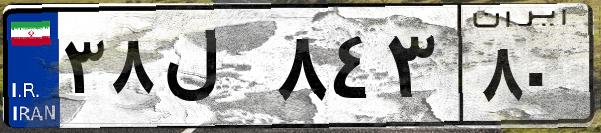0: (525, 38, 570, 115)
3: (385, 28, 445, 110), (57, 26, 110, 100)
4: (330, 28, 385, 110)
8: (270, 28, 330, 110), (475, 38, 525, 113), (110, 28, 158, 98)
ل: (158, 20, 270, 120)
